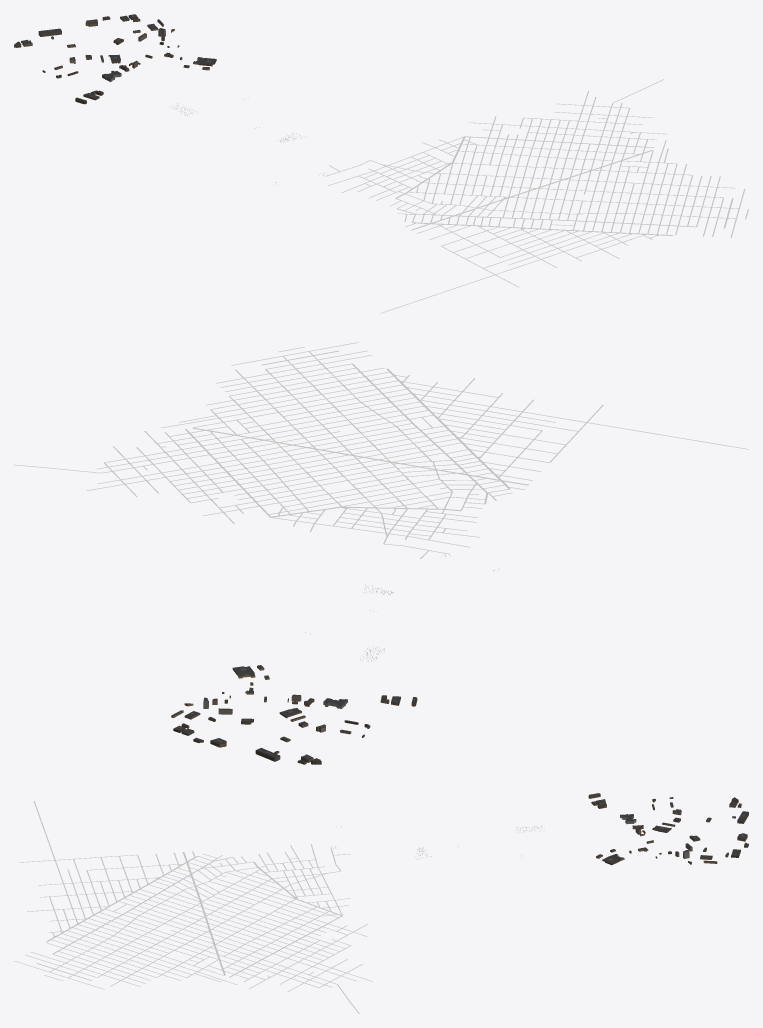
The model's file is manhattan_+01_-04.glb.
The picture shows the model from 3 angles, top to bottom: view 1: azimuth 30°, elevation 25°; view 2: azimuth 150°, elevation 25°; view 3: azimuth 270°, elevation 25°; orthographic projection. The views are drawn at different scales.
Parts seen in each view (by area): view 1: ROAD_+01_-04, BLD_lowrise_+01_-04; view 2: ROAD_+01_-04, BLD_lowrise_+01_-04; view 3: ROAD_+01_-04, BLD_lowrise_+01_-04, BLD_midrise_+01_-04.
Part boxes in pixels (<box>): ROAD_+01_-04: <box>325,79,748,313</box>; BLD_lowrise_+01_-04: <box>21,14,216,104</box>; ROAD_+01_-04: <box>14,342,748,558</box>; BLD_lowrise_+01_-04: <box>171,665,417,764</box>; ROAD_+01_-04: <box>14,801,372,1013</box>; BLD_lowrise_+01_-04: <box>588,793,748,864</box>; BLD_midrise_+01_-04: <box>635,797,748,858</box>.
Bounding box in the file's own units: 4570 × 68.93 × 6505.
